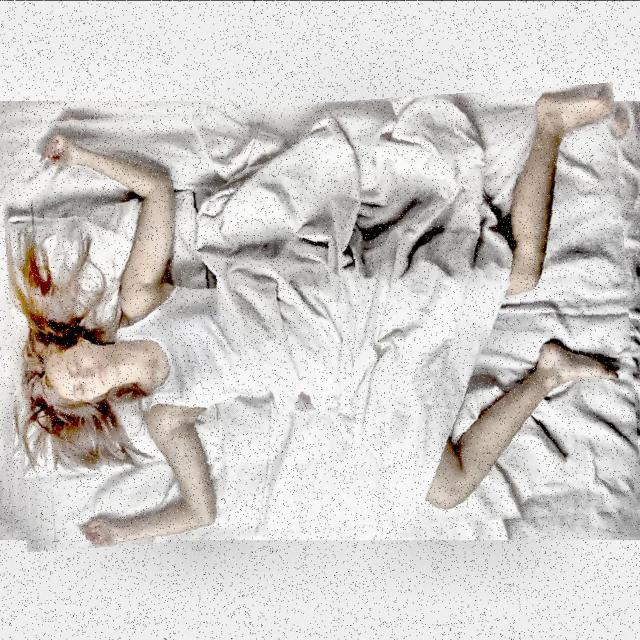Supine: (5, 92, 613, 549)
